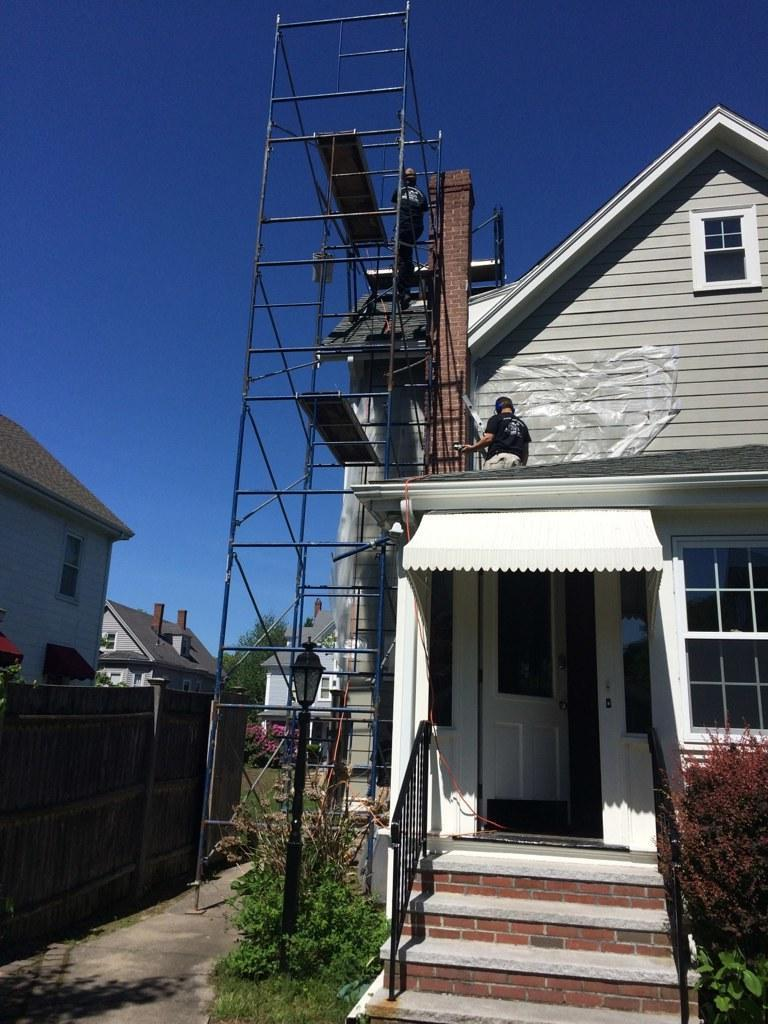door: (482, 574, 565, 820)
